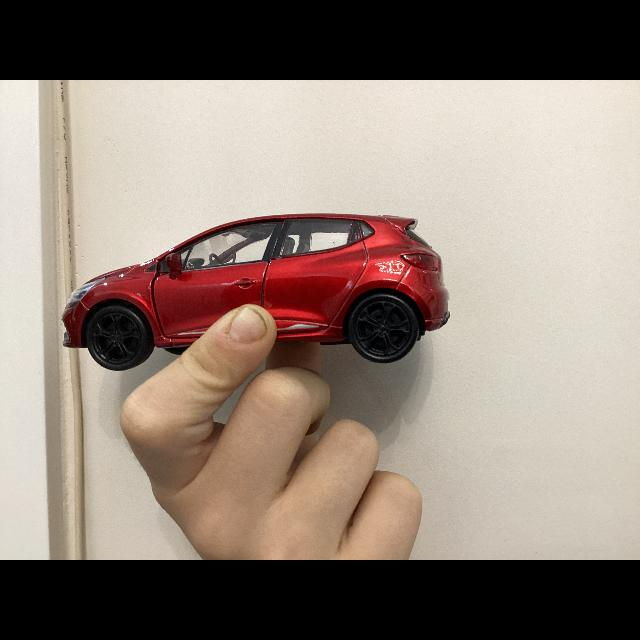Dogru_Jant: (356, 300, 410, 356), (92, 312, 140, 363)
